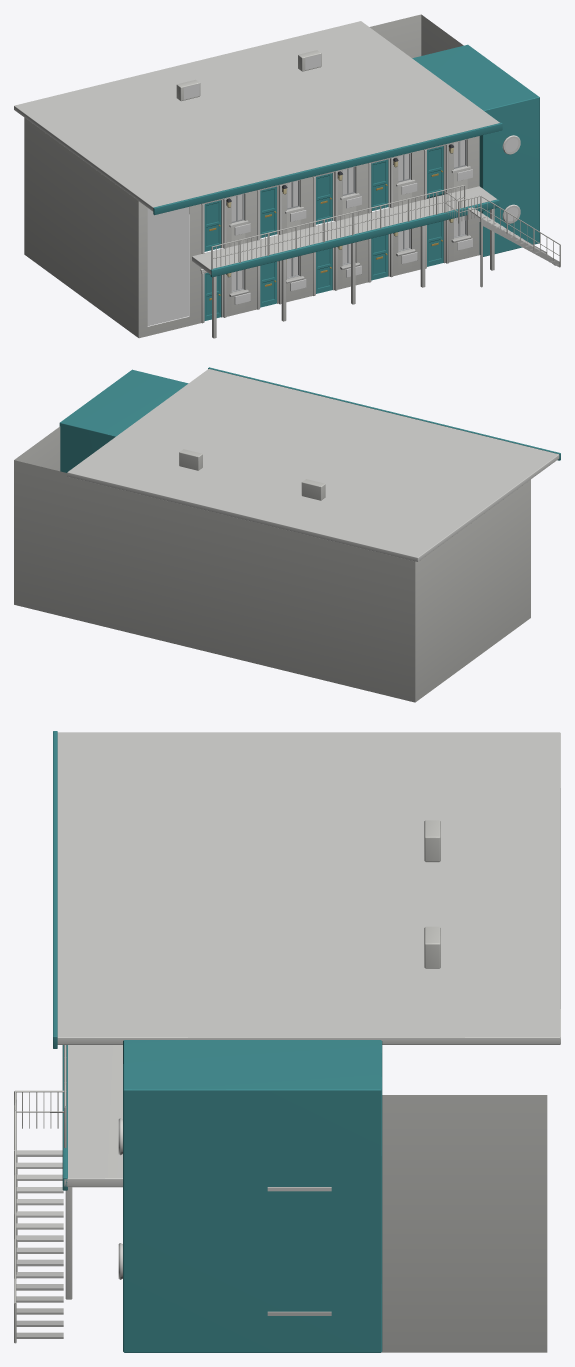
Rendered from MotelFL.fbx.
The picture shows the model from 3 angles, top to bottom: view 1: azimuth 30°, elevation 25°; view 2: azimuth 150°, elevation 25°; view 3: azimuth 270°, elevation 25°; orthographic projection. The views are drawn at different scales.
Visible parts, largest first — view 1: MotelFL; view 2: MotelFL; view 3: MotelFL.
Boxes of the visible parts, box(x1,y1,x2,y2) form: MotelFL: box(14, 14, 560, 338); MotelFL: box(14, 367, 560, 702); MotelFL: box(14, 731, 560, 1352).
Size of the model in its own units: 18.42 by 7.02 by 11.93.
